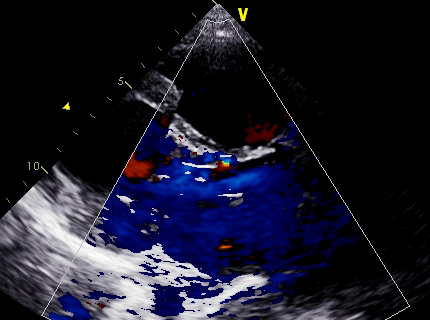MR: (124, 178, 196, 252)
